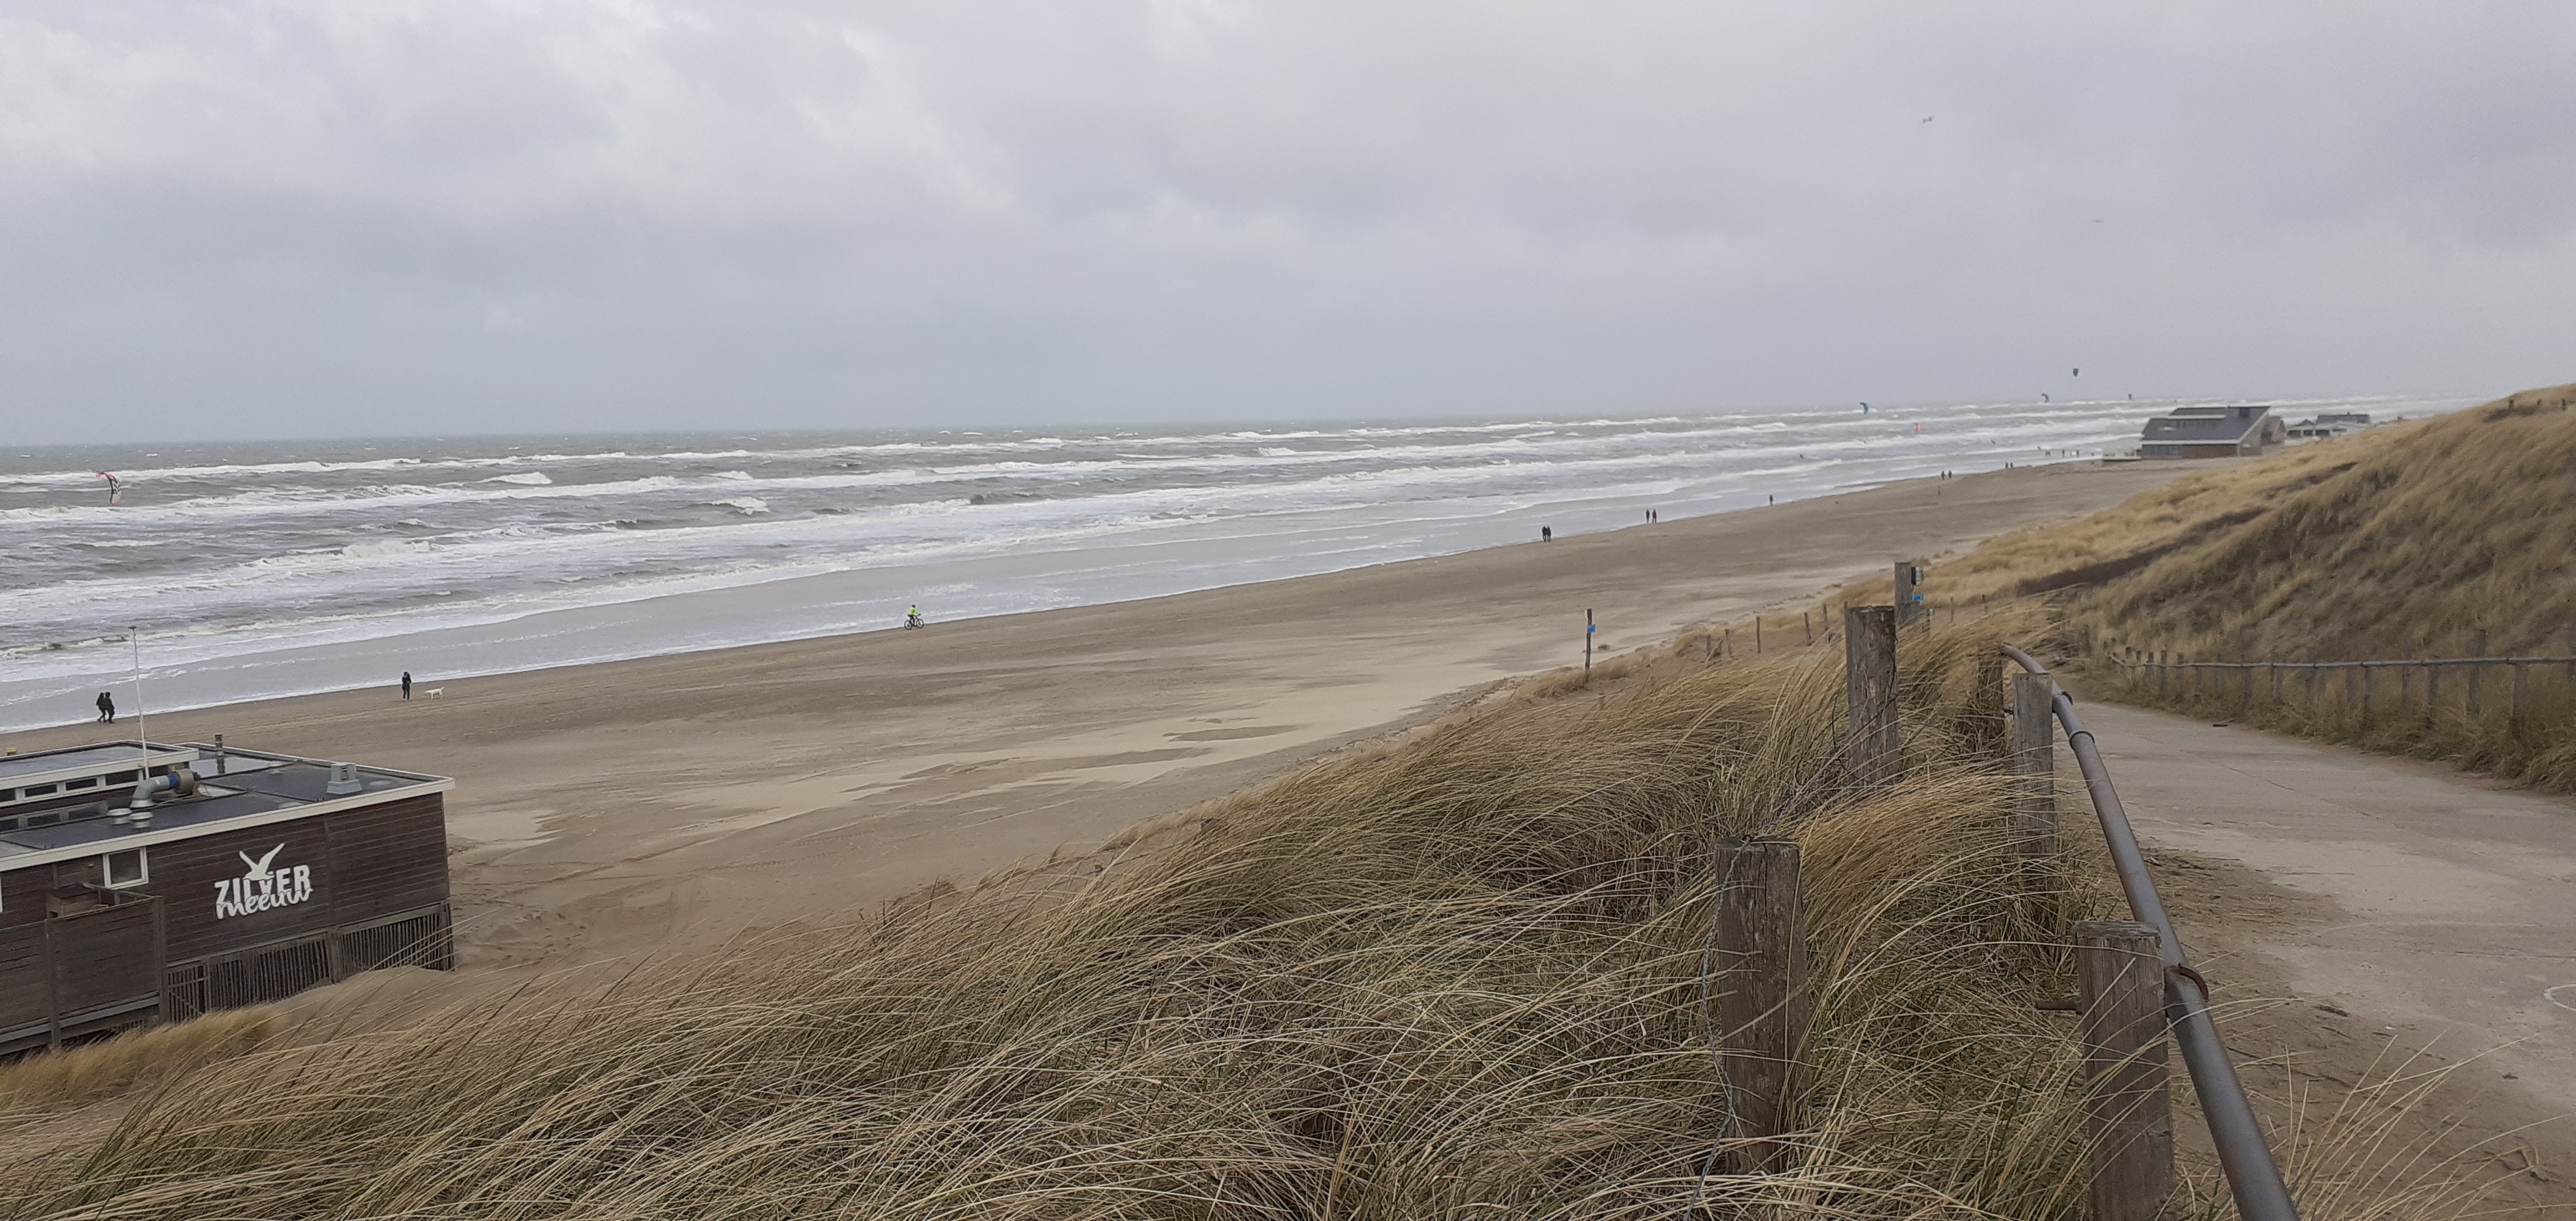pad: (1980, 629, 2561, 1221)
